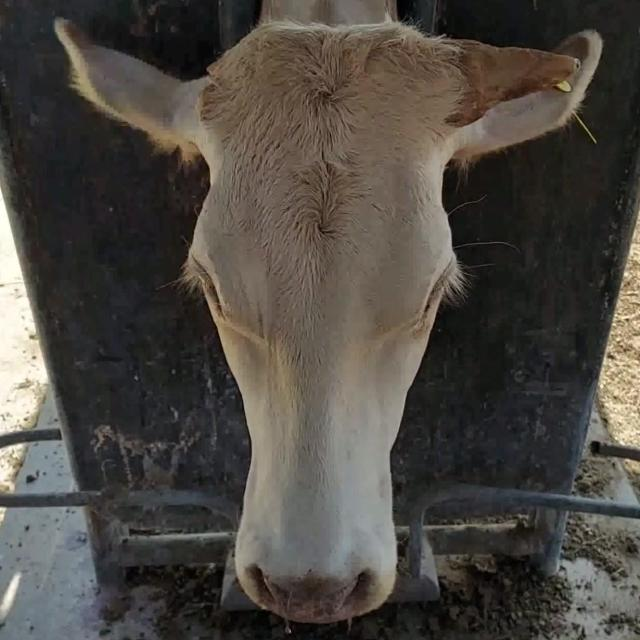cowFace: (193, 21, 459, 619)
